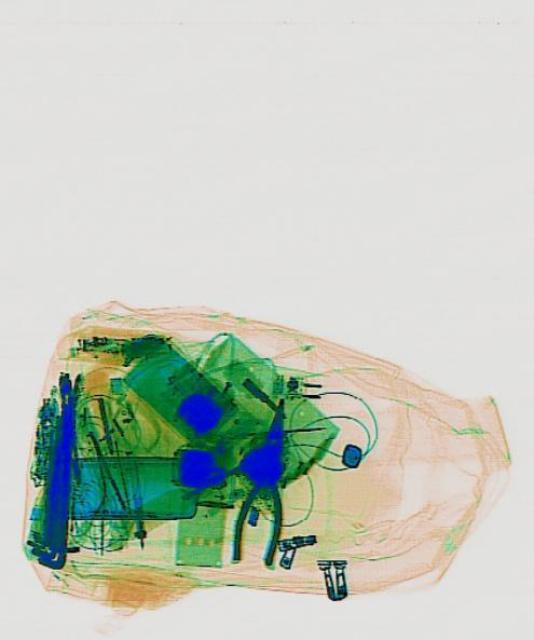Pliers: (228, 392, 302, 568)
